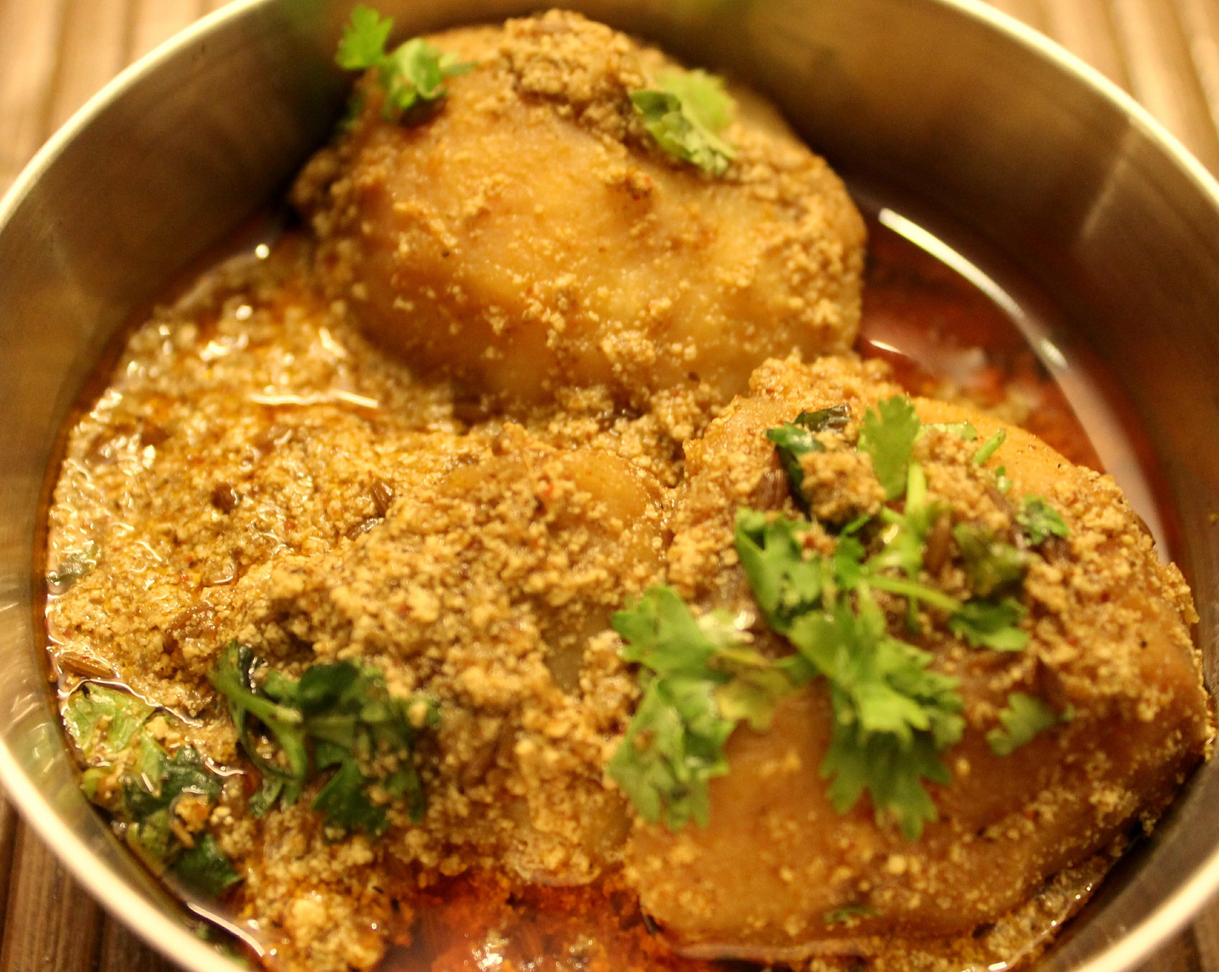DumAloo: (37, 11, 1219, 972)
